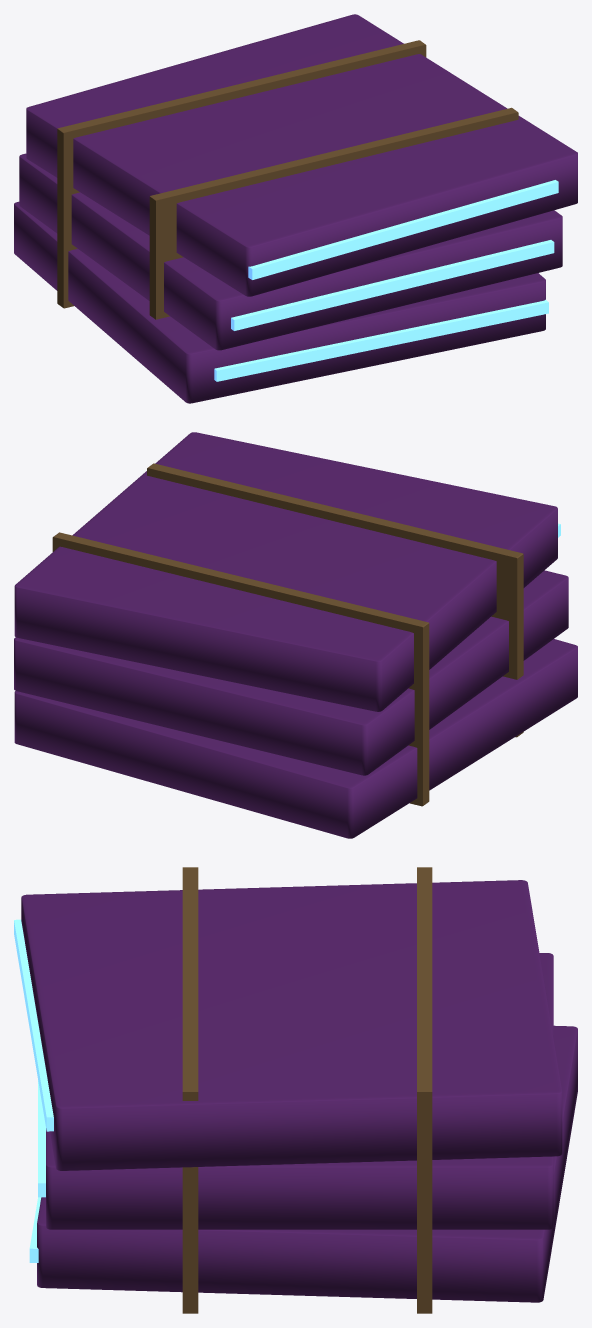
The model's file is stoff_mond.glb.
3 views of the same model, one above another, from view 1: azimuth 30°, elevation 25°; view 2: azimuth 150°, elevation 25°; view 3: azimuth 270°, elevation 25° (orthographic). The views are drawn at different scales.
Parts seen in each view (by area): view 1: Cube.004, Cube, Cube.002, Cube.007, Cube.006, Cube.001, Cube.003, Cube.005; view 2: Cube.004, Cube, Cube.002, Cube.007, Cube.006; view 3: Cube.004, Cube, Cube.002, Cube.007, Cube.006, Cube.005, Cube.003.
Part boxes in pixels (x1=…): Cube.004: x1=26, y1=14, x2=577, y2=296; Cube: x1=14, y1=201, x2=545, y2=403; Cube.002: x1=19, y1=153, x2=562, y2=350; Cube.007: x1=57, y1=40, x2=426, y2=308; Cube.006: x1=149, y1=107, x2=518, y2=319; Cube.001: x1=214, y1=299, x2=548, y2=381; Cube.003: x1=231, y1=240, x2=554, y2=330; Cube.005: x1=248, y1=180, x2=558, y2=279; Cube.004: x1=14, y1=432, x2=557, y2=711; Cube: x1=14, y1=639, x2=577, y2=838; Cube.002: x1=14, y1=570, x2=568, y2=775; Cube.007: x1=52, y1=532, x2=429, y2=806; Cube.006: x1=147, y1=463, x2=523, y2=737; Cube.004: x1=21, y1=880, x2=562, y2=1170; Cube: x1=37, y1=1025, x2=577, y2=1302; Cube.002: x1=46, y1=953, x2=553, y2=1229; Cube.007: x1=417, y1=867, x2=432, y2=1313; Cube.006: x1=182, y1=867, x2=198, y2=1313; Cube.005: x1=14, y1=919, x2=53, y2=1131; Cube.003: x1=38, y1=1080, x2=45, y2=1197.
Bounding box in the file's own units: 0.2891 × 0.126 × 0.2889.
